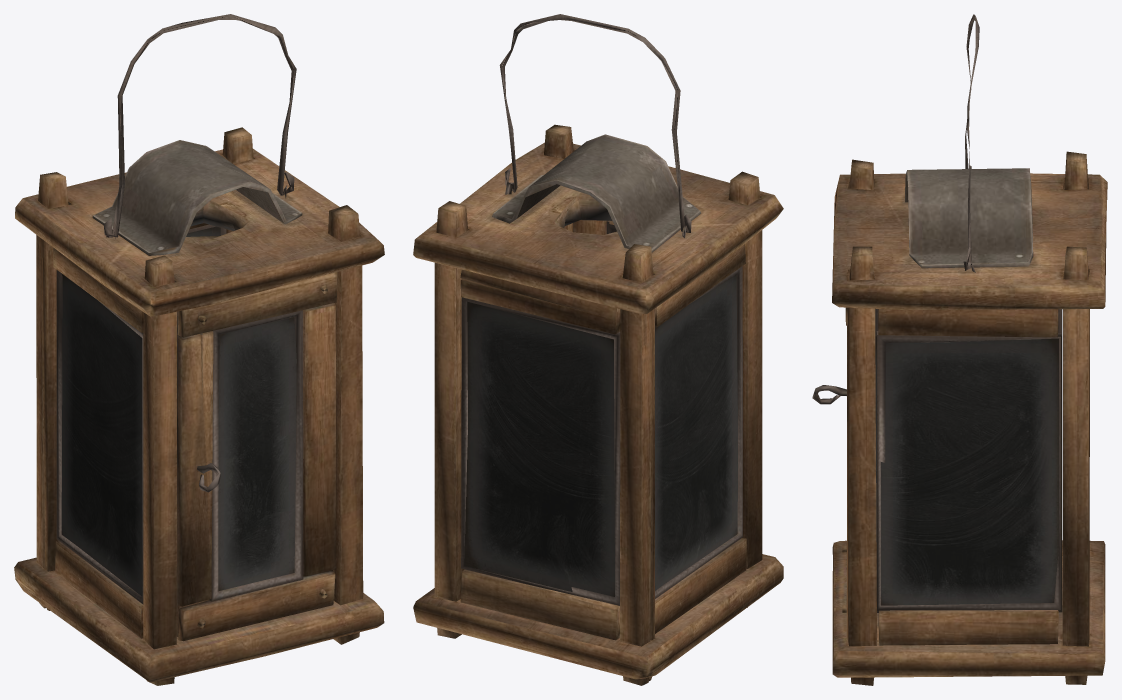
File: wooden_lantern_01_web.glb
3 renders of one model, left to right at view 1: azimuth 30°, elevation 25°; view 2: azimuth 150°, elevation 25°; view 3: azimuth 270°, elevation 25°, orthographic.
Parts seen in each view (by area): view 1: wooden_lantern_01, wooden_lantern_01_door, wooden_lantern_01_handle; view 2: wooden_lantern_01, wooden_lantern_01_handle, wooden_lantern_01_door; view 3: wooden_lantern_01, wooden_lantern_01_handle, wooden_lantern_01_door.
Part boxes in pixels (x1,y1,x2,y2): wooden_lantern_01: (14, 127, 384, 685); wooden_lantern_01_door: (176, 272, 337, 641); wooden_lantern_01_handle: (103, 14, 296, 237); wooden_lantern_01: (413, 124, 783, 685); wooden_lantern_01_handle: (499, 14, 691, 232); wooden_lantern_01_door: (573, 220, 616, 234); wooden_lantern_01: (832, 151, 1107, 685); wooden_lantern_01_handle: (965, 14, 979, 269); wooden_lantern_01_door: (812, 307, 847, 612).
Size of the model in its own units: 0.2186 by 0.5267 by 0.2331.
2 materials, 2 textured.
